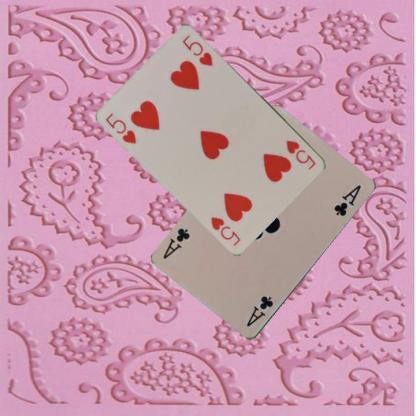5h: (103, 110, 138, 145), (284, 138, 318, 171)
Ac: (244, 294, 275, 328)
